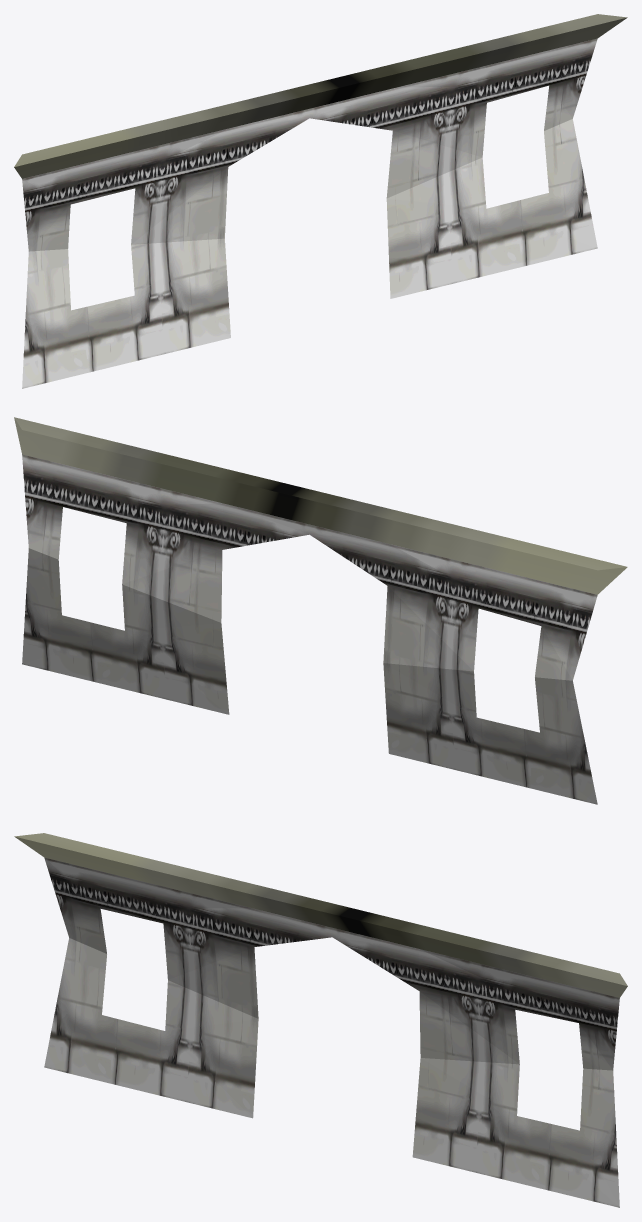
The model's file is W_A1_fof [Antik]_352.glb.
3 views of the same model, one above another, from view 1: azimuth 30°, elevation 25°; view 2: azimuth 150°, elevation 25°; view 3: azimuth 330°, elevation 25° (orthographic).
Parts seen in each view (by area): view 1: polySurfaceShape907, polySurfaceShape1057; view 2: polySurfaceShape907, polySurfaceShape1057; view 3: polySurfaceShape907, polySurfaceShape1057.
Part boxes in pixels (<box>): polySurfaceShape907: <box>22,38,597,388</box>; polySurfaceShape1057: <box>14,14,627,178</box>; polySurfaceShape907: <box>22,454,597,804</box>; polySurfaceShape1057: <box>14,417,627,594</box>; polySurfaceShape907: <box>44,857,619,1207</box>; polySurfaceShape1057: <box>14,833,627,997</box>.
Size of the model in its own units: 1.07 by 0.3891 by 0.0607.
Materials: 2 (2 with a texture image).
